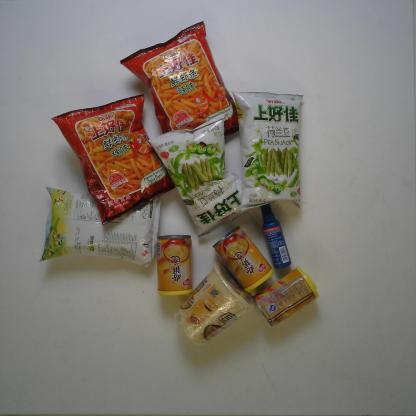Canned Food: (252, 264, 320, 330), (212, 224, 274, 294), (156, 234, 194, 298)
Instant Noodles: (174, 260, 258, 349)
Personal Hygiene: (257, 200, 294, 270)
Puffed Food: (50, 92, 177, 226), (118, 19, 241, 141), (147, 116, 251, 239), (38, 184, 162, 269), (230, 89, 304, 212)
